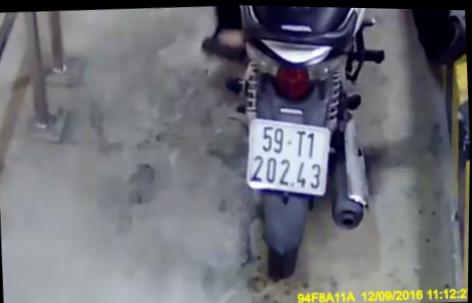LP: (241, 111, 336, 200)
